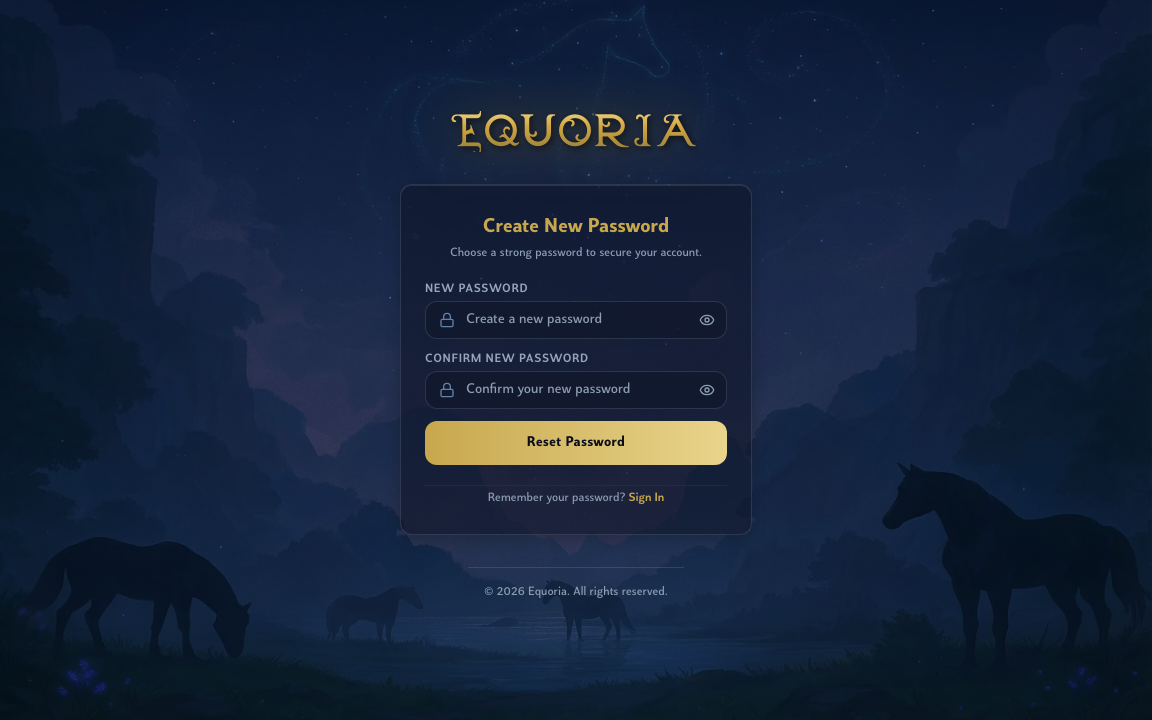
it: ResetPasswordPage › Form Validation › shows error for password without lowercase
In the password field with placeholder "Create a new password": [576, 320] box [425, 301, 727, 339], type "PASSWORD123!"
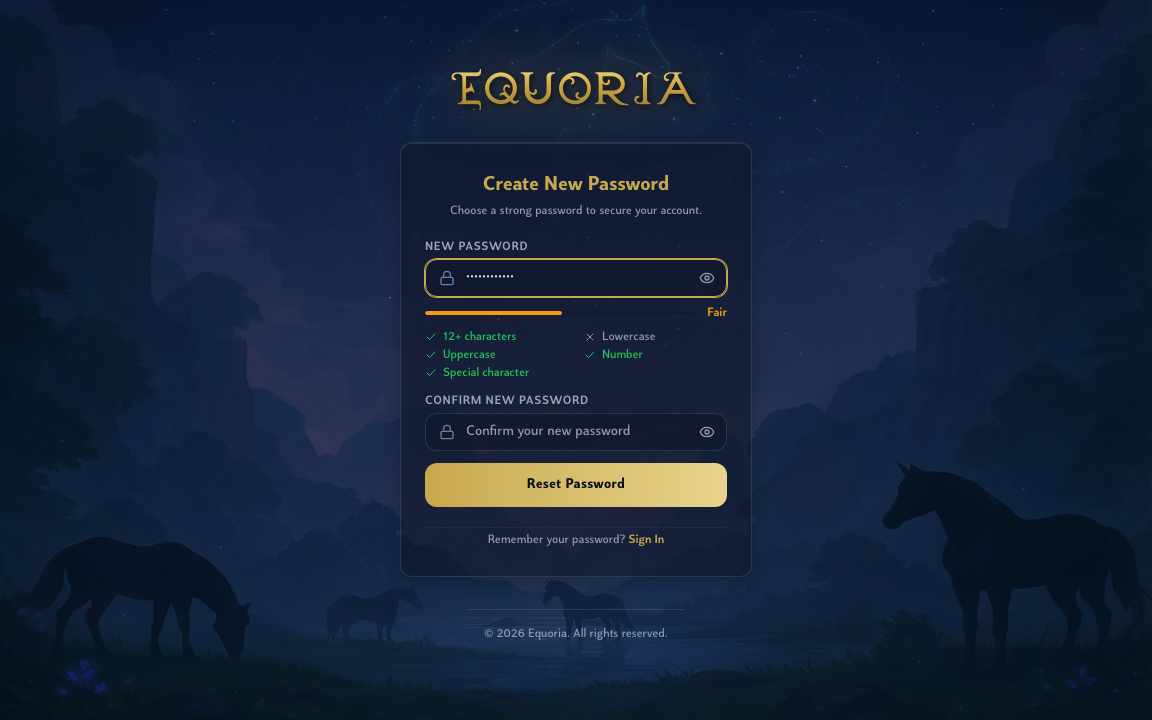
Submit the form named "reset password", box [425, 239, 727, 507]
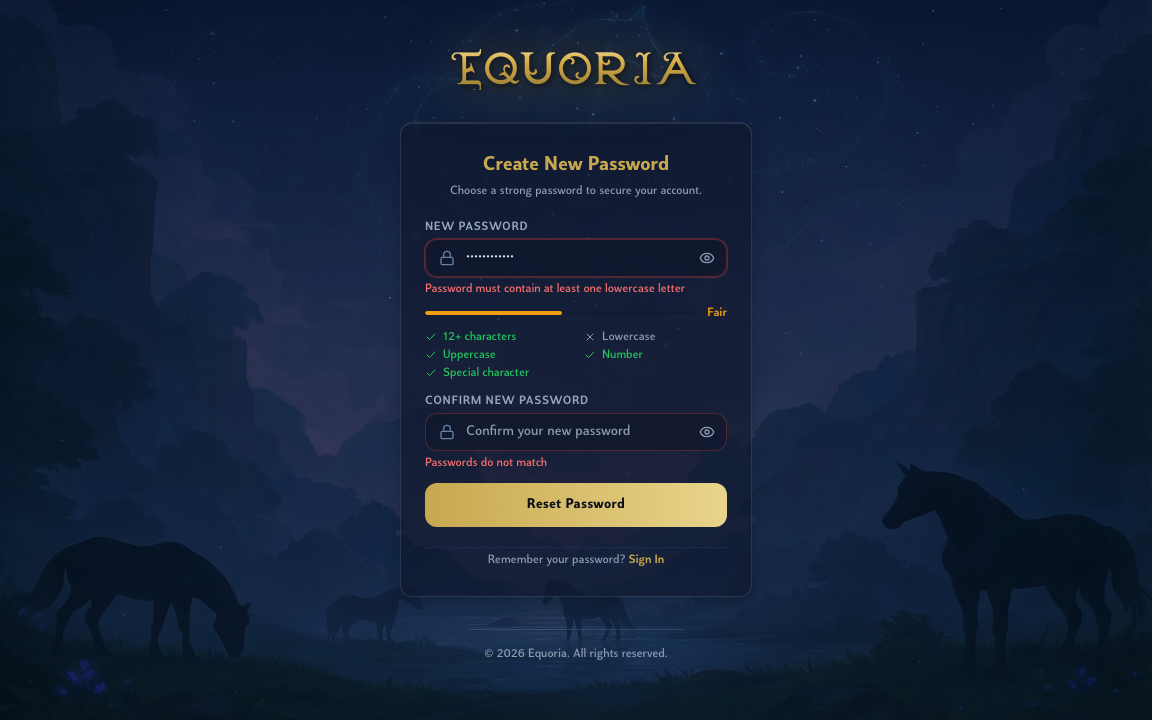
Now the text "Password must contain at least one lowercase letter" is shown, box [425, 281, 727, 297]
